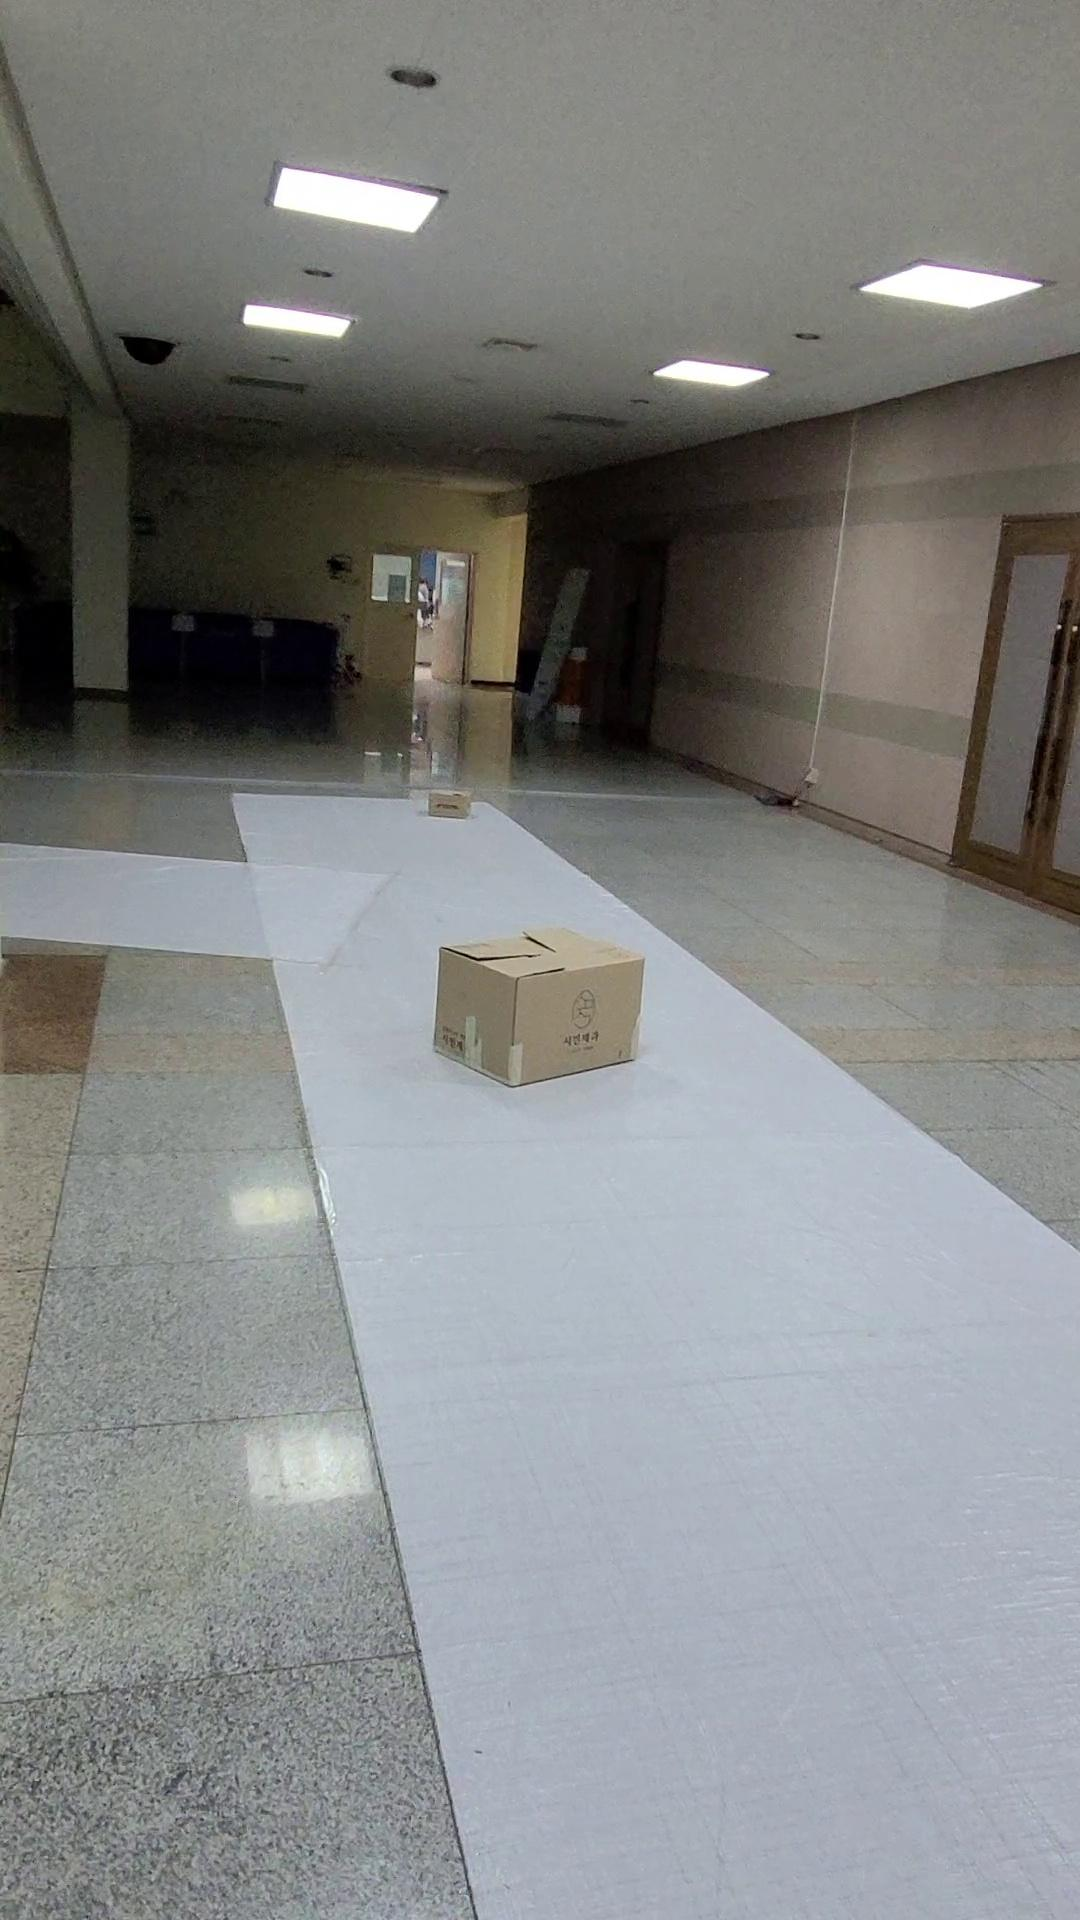Box: (404, 885, 667, 1105), (413, 770, 495, 840)
